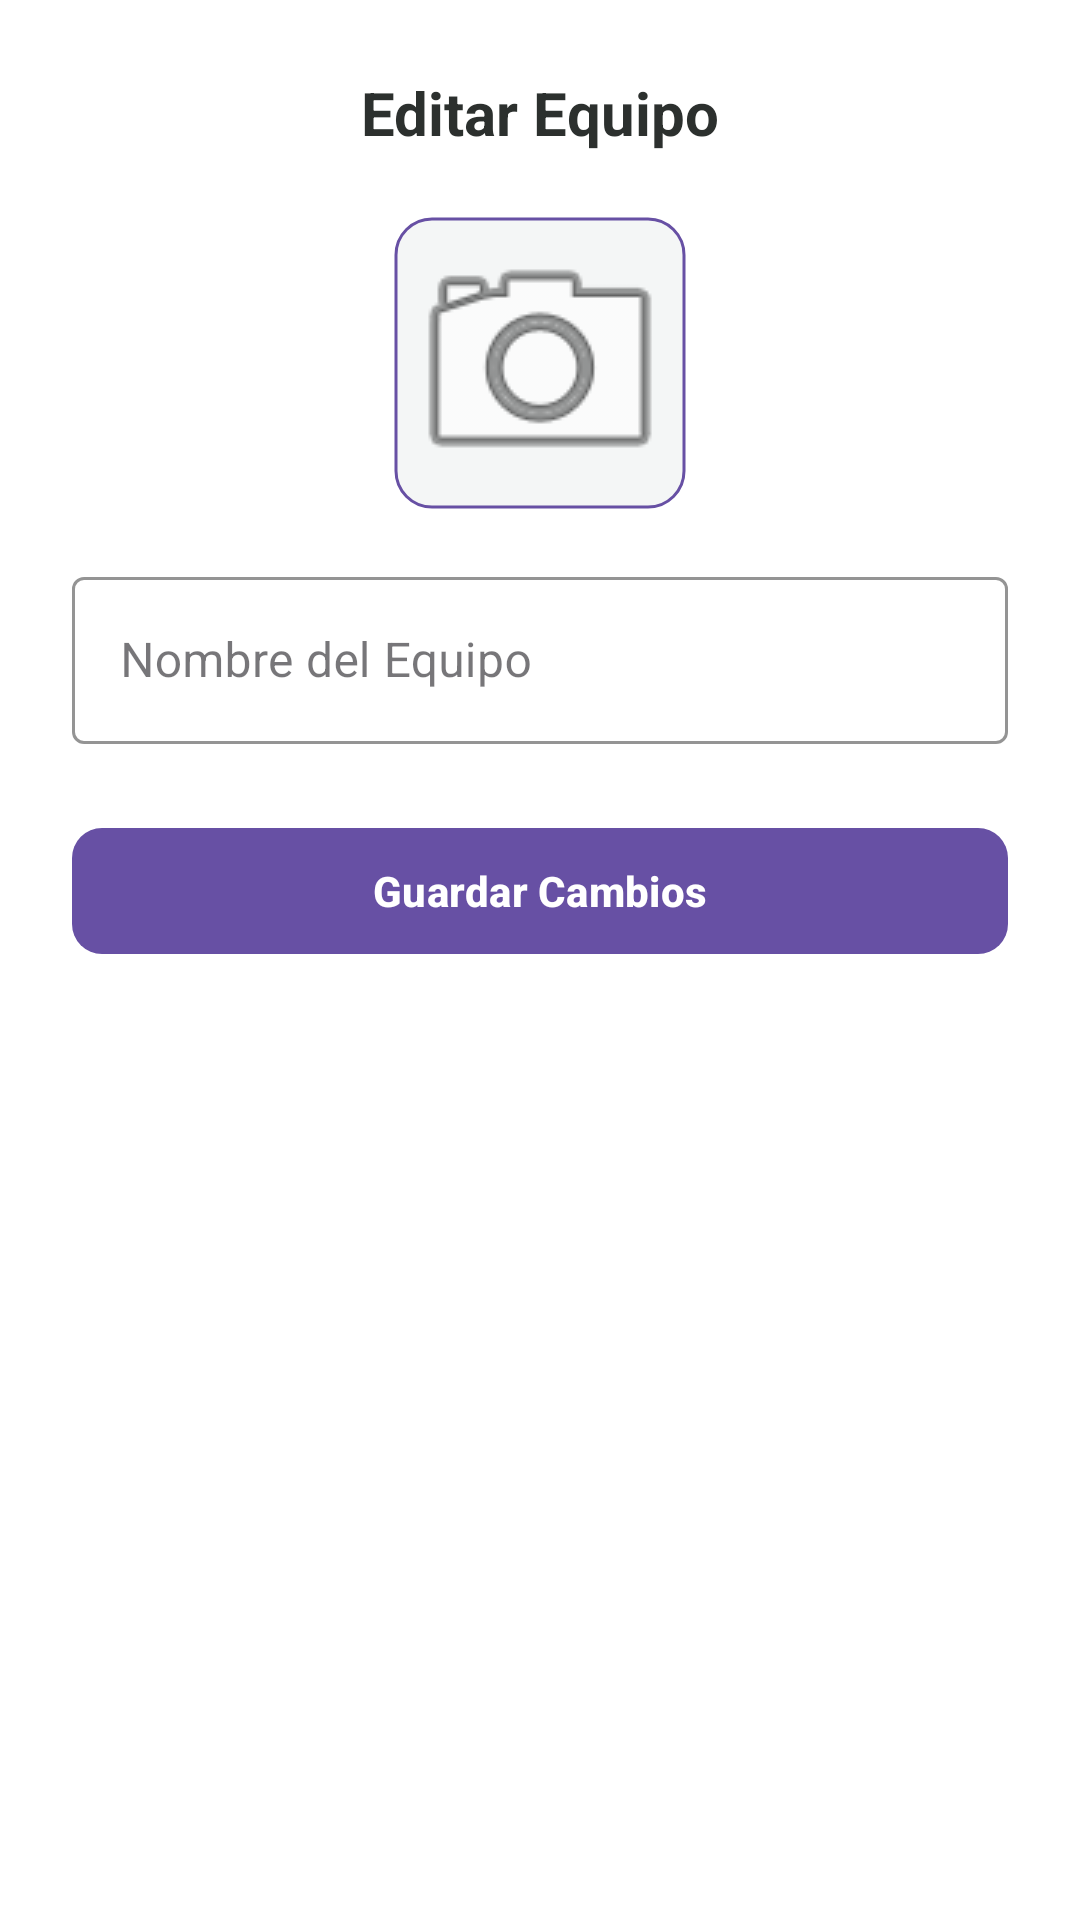

Screen size 1080 x 1920. Icon name, then its box in pixels as (x1, y1, x2, y2):
camera: (394, 217, 686, 509)
